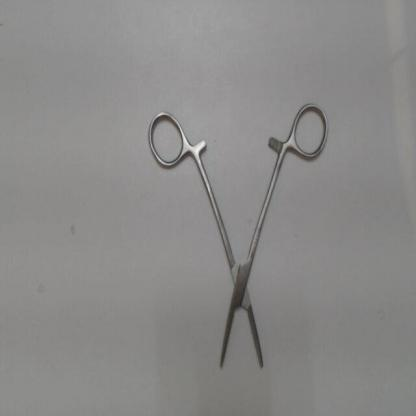Mayo Needle Holder: (142, 96, 336, 380)
